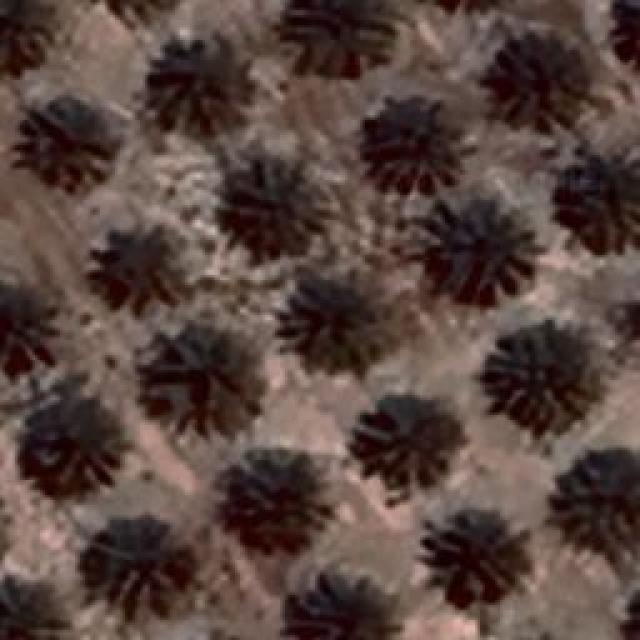PalmTree: (140, 330, 265, 442), (480, 322, 598, 428), (347, 390, 465, 490), (19, 400, 122, 490), (420, 510, 515, 605), (230, 155, 320, 250), (547, 455, 635, 550), (362, 100, 456, 188), (430, 208, 528, 292), (287, 284, 385, 368), (90, 526, 195, 604), (282, 0, 395, 72), (228, 466, 316, 554), (491, 30, 581, 115), (156, 52, 249, 132), (284, 575, 398, 640), (27, 104, 115, 186), (565, 158, 640, 244), (92, 238, 178, 312), (0, 0, 66, 82), (0, 576, 70, 640), (0, 285, 52, 365), (101, 0, 185, 30), (610, 0, 640, 73), (422, 0, 510, 17), (617, 584, 640, 640)
